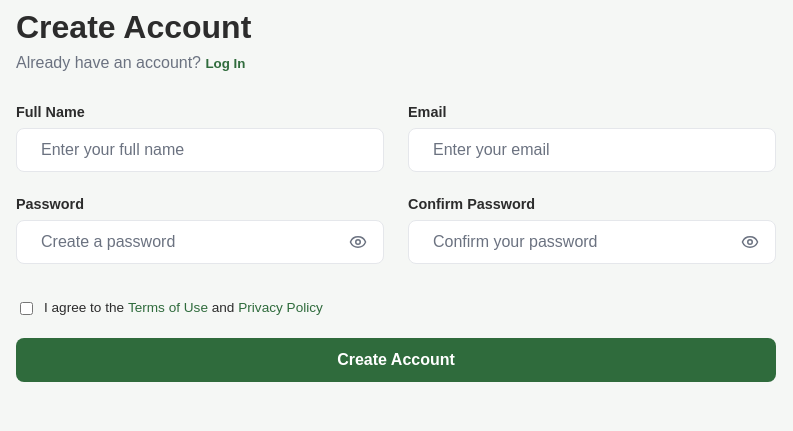
Test: RegisterForm › shows the backend's error message when registration fails
In the field labelled "Full Name": x=200, y=150 29,129 -> 371,171, type "Anna Andersson"
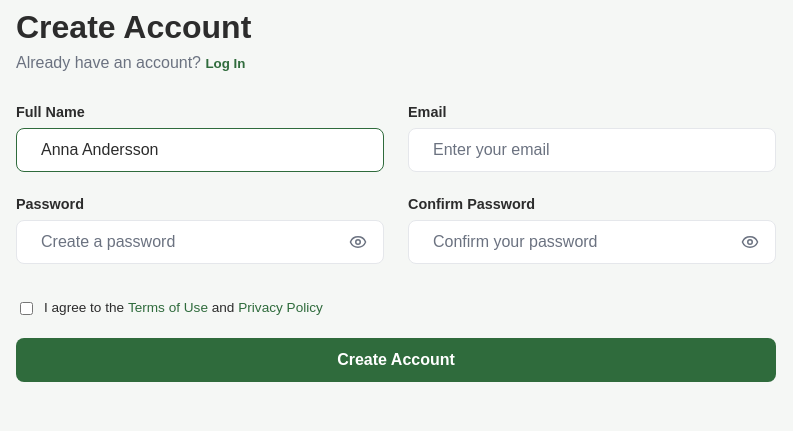
In the field labelled "Email": x=592, y=150 421,129 -> 763,171, type "anna@example.com"
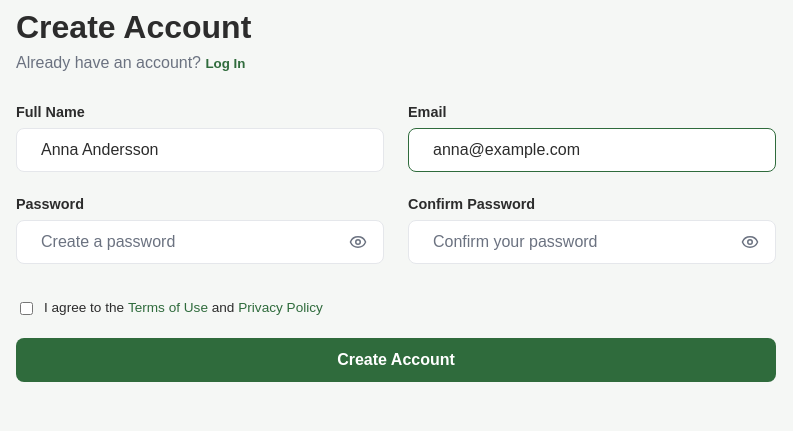
In the password field labelled "Password": x=187, y=242 29,221 -> 345,263, type "secret123"
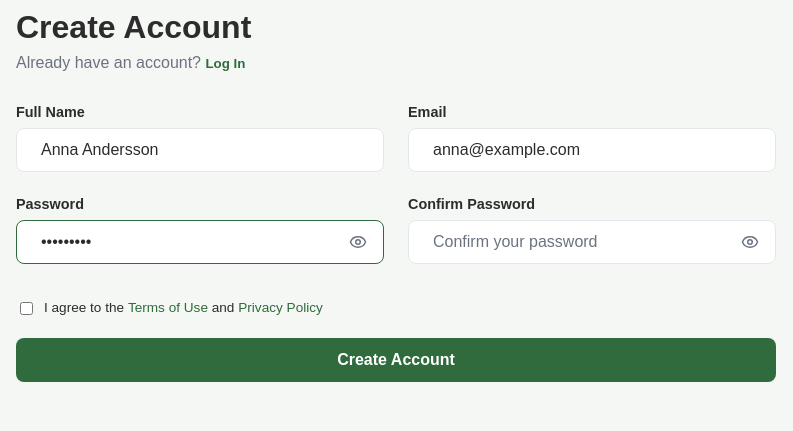
In the password field labelled "Confirm Password": x=579, y=242 421,221 -> 737,263, type "secret123"
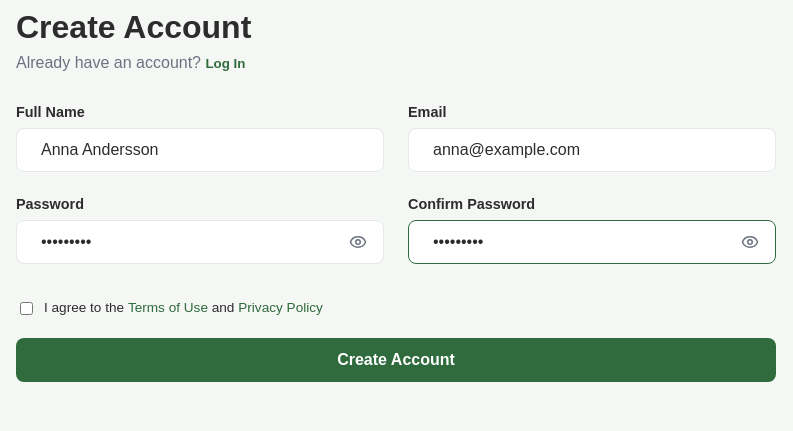
Click the checkbox: x=26, y=308 20,302 -> 33,315
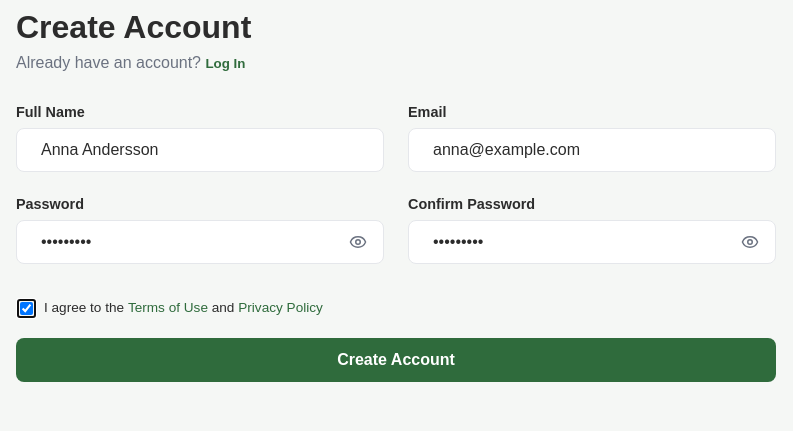
Click the button "Create Account": x=396, y=360 16,338 -> 776,382
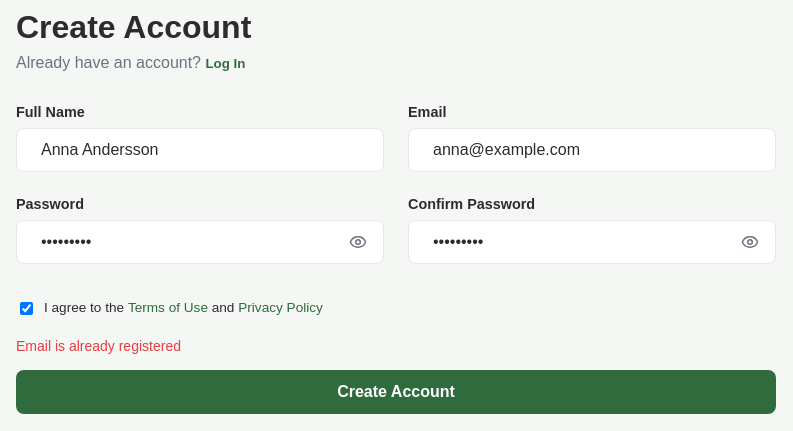
Expected: the text "Email is already registered" is shown, 16,338 -> 181,354
